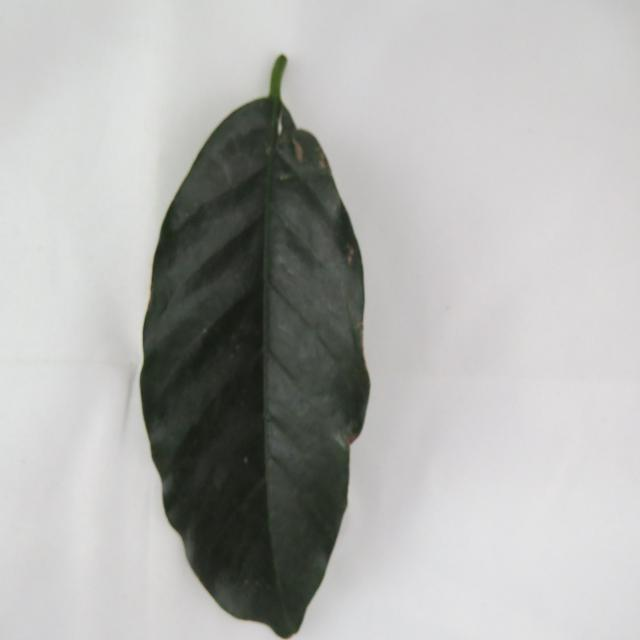DeficienciaNutricional-Boro: (140, 57, 370, 637)
